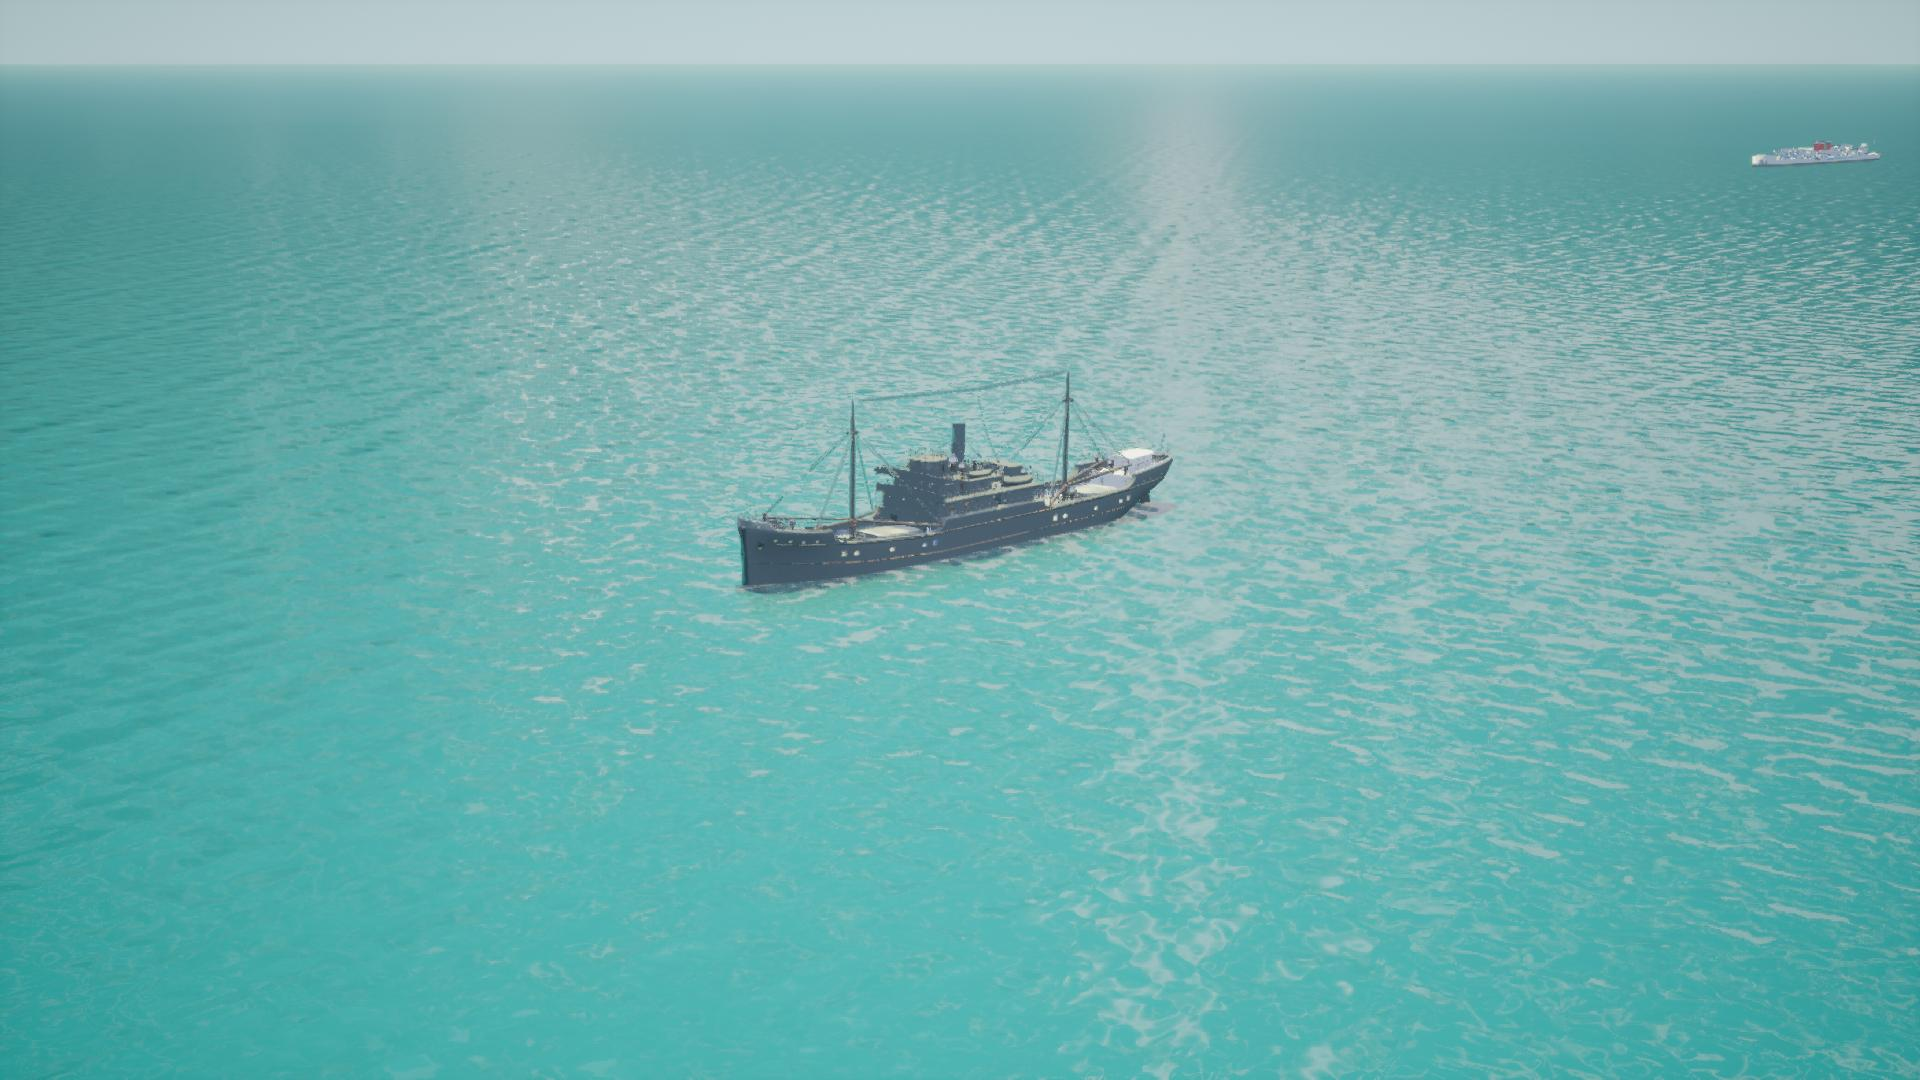Fishing Boat: (733, 414, 1170, 592), (1746, 141, 1887, 170)
